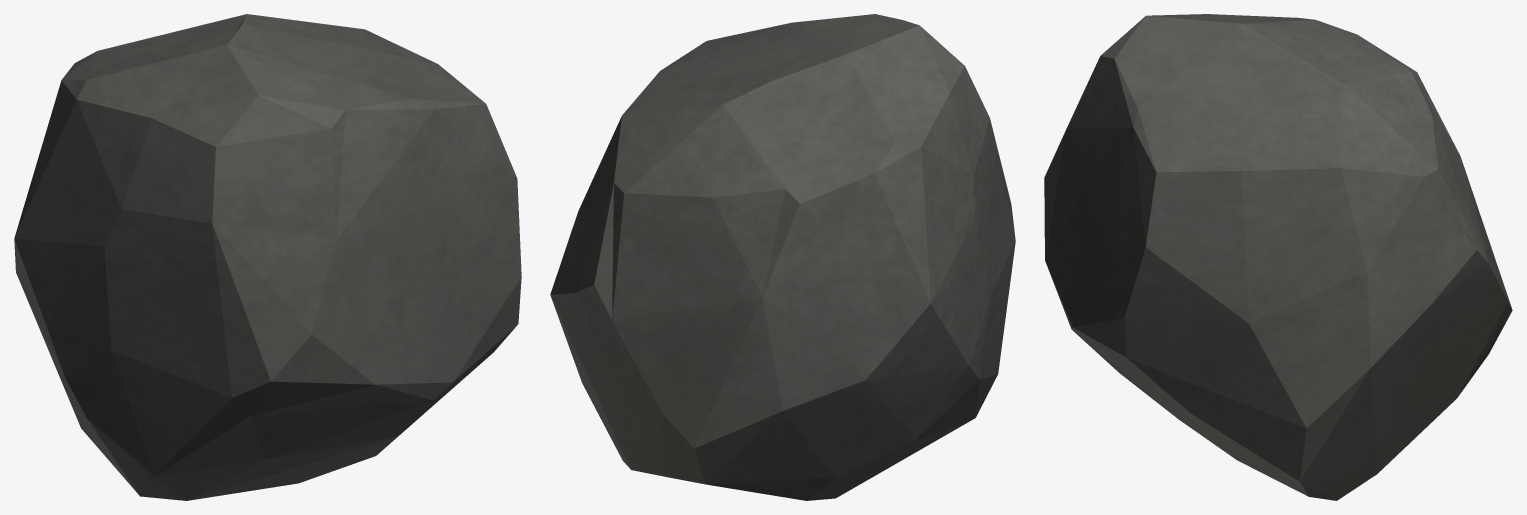
Rendered from Rock_Round_01.FBX.
The picture shows the model from 3 angles, left to right: view 1: azimuth 30°, elevation 25°; view 2: azimuth 150°, elevation 25°; view 3: azimuth 270°, elevation 25°; orthographic projection. The views are drawn at different scales.
Parts seen in each view (by area): view 1: Rock_Round_01; view 2: Rock_Round_01; view 3: Rock_Round_01.
Boxes of the visible parts, x1,y1,x2,y2 form: Rock_Round_01: (14,14,521,500); Rock_Round_01: (550,14,1015,500); Rock_Round_01: (1044,14,1512,500).
Size of the model in its own units: 62.32 by 68.7 by 65.62.
